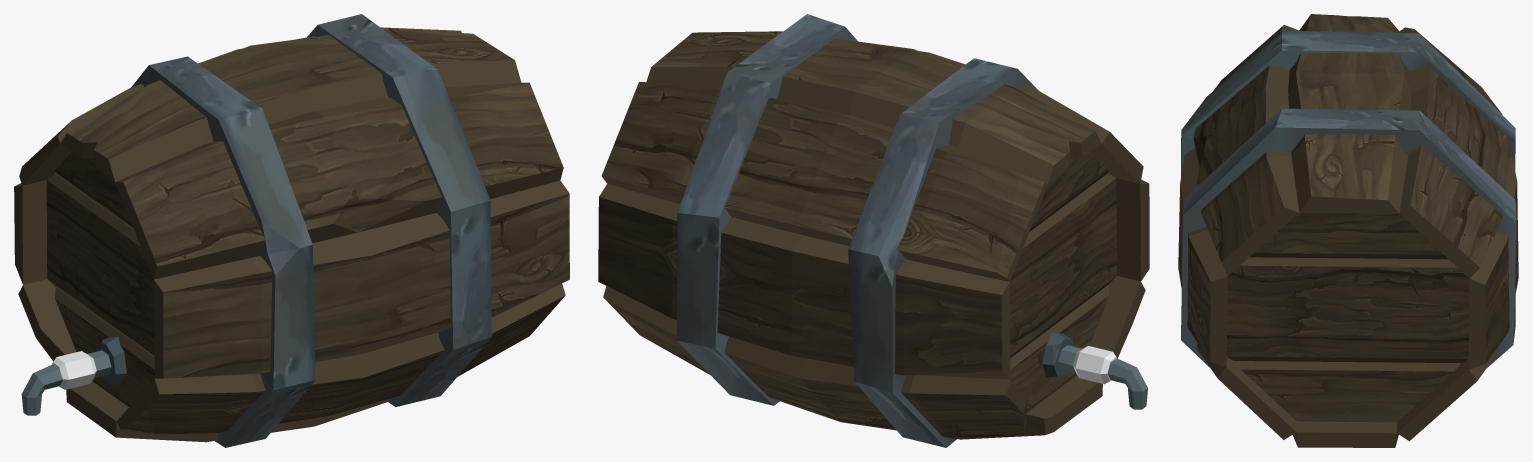
File: Barrel_Dispenser_Small_01.fbx
The picture shows the model from 3 angles, left to right: view 1: azimuth 30°, elevation 25°; view 2: azimuth 150°, elevation 25°; view 3: azimuth 270°, elevation 25°; orthographic projection. The views are drawn at different scales.
Parts seen in each view (by area): view 1: SM_Prop_Barrel_Dispenser_Small_01; view 2: SM_Prop_Barrel_Dispenser_Small_01; view 3: SM_Prop_Barrel_Dispenser_Small_01.
Boxes of the visible parts, <box> form: SM_Prop_Barrel_Dispenser_Small_01: <box>14,14,569,447</box>; SM_Prop_Barrel_Dispenser_Small_01: <box>598,14,1149,447</box>; SM_Prop_Barrel_Dispenser_Small_01: <box>1178,14,1518,447</box>.
Size of the model in its own units: 106 by 71.76 by 71.76.
